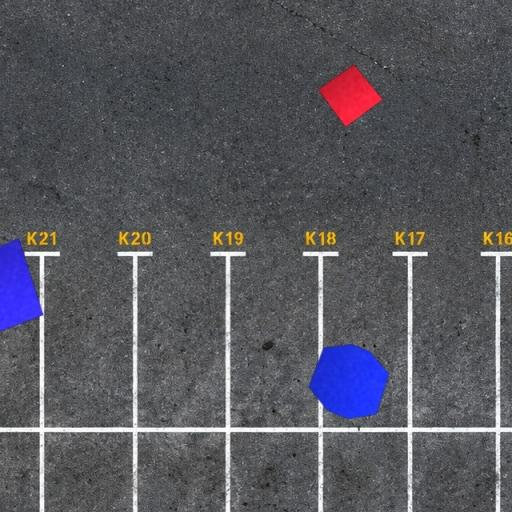BLUE_SQUARE: (0, 237, 44, 345)
RED_SQUARE: (318, 64, 383, 128)
